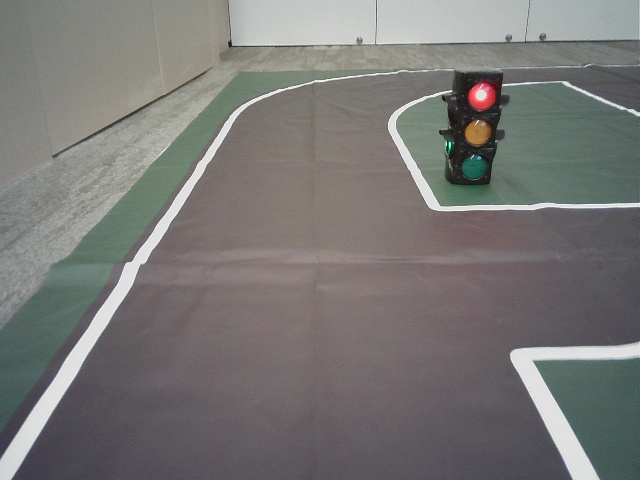red: (458, 77, 495, 181)
